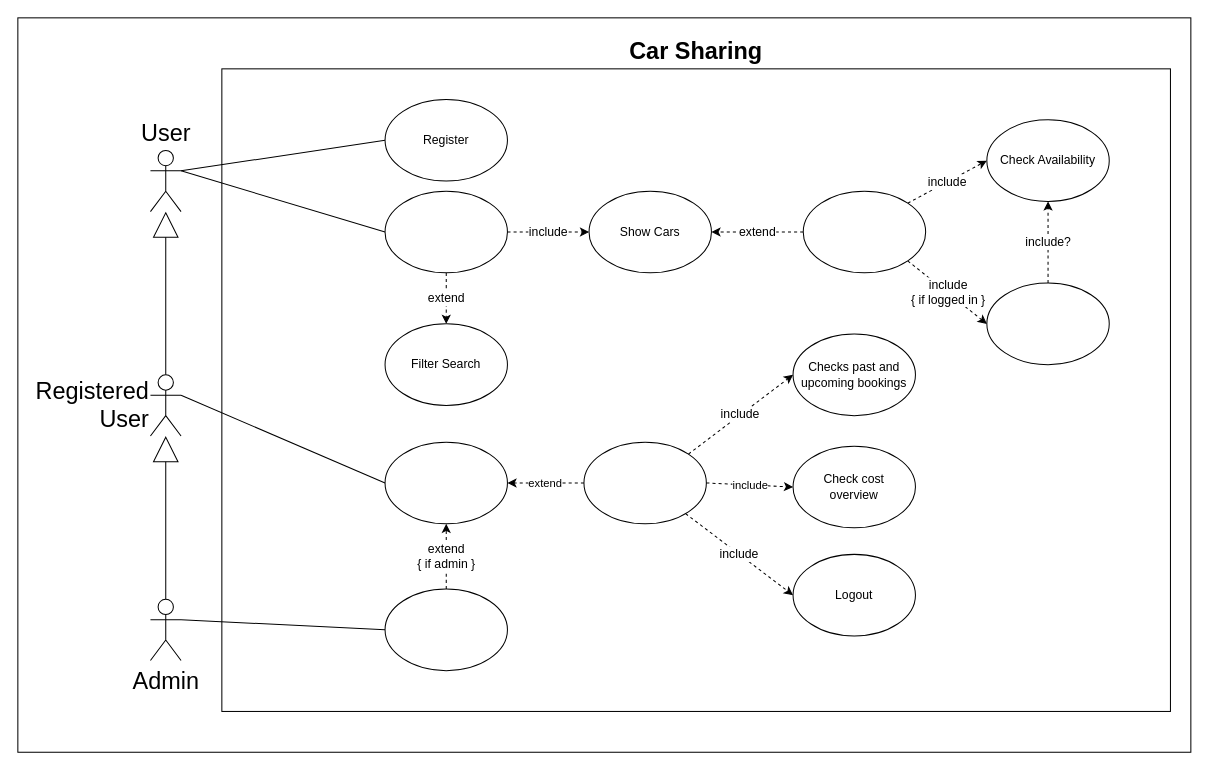
The diagram is 1209 pixels wide and 770 high, and some of its shapes have lost their labels. The box of each missing label's shape, as (x1, y1, x2, y2) in pixels:
Add new car to database: (384, 588, 507, 671)
Book Car: (986, 282, 1109, 365)
Login: (384, 441, 507, 524)
Profile: (583, 441, 706, 524)
Search Cars: (384, 190, 507, 273)
Show Car: (802, 190, 926, 273)
